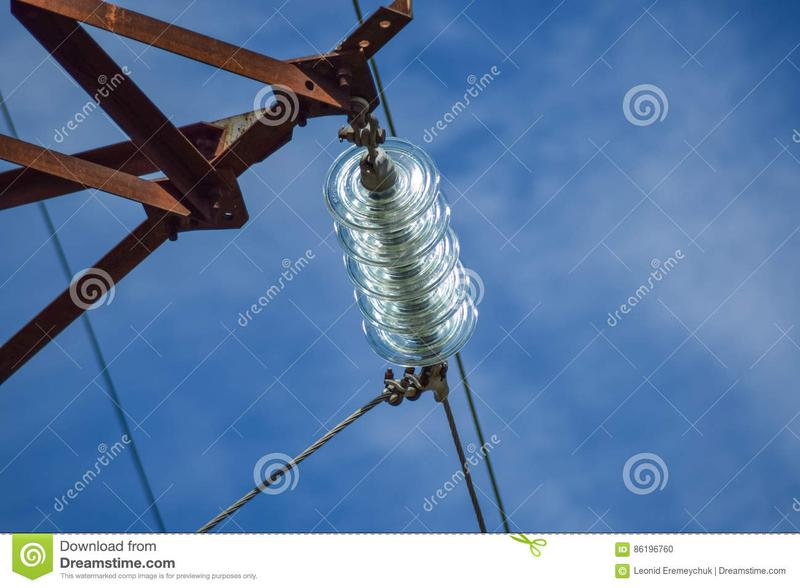isolator: (319, 137, 479, 367)
